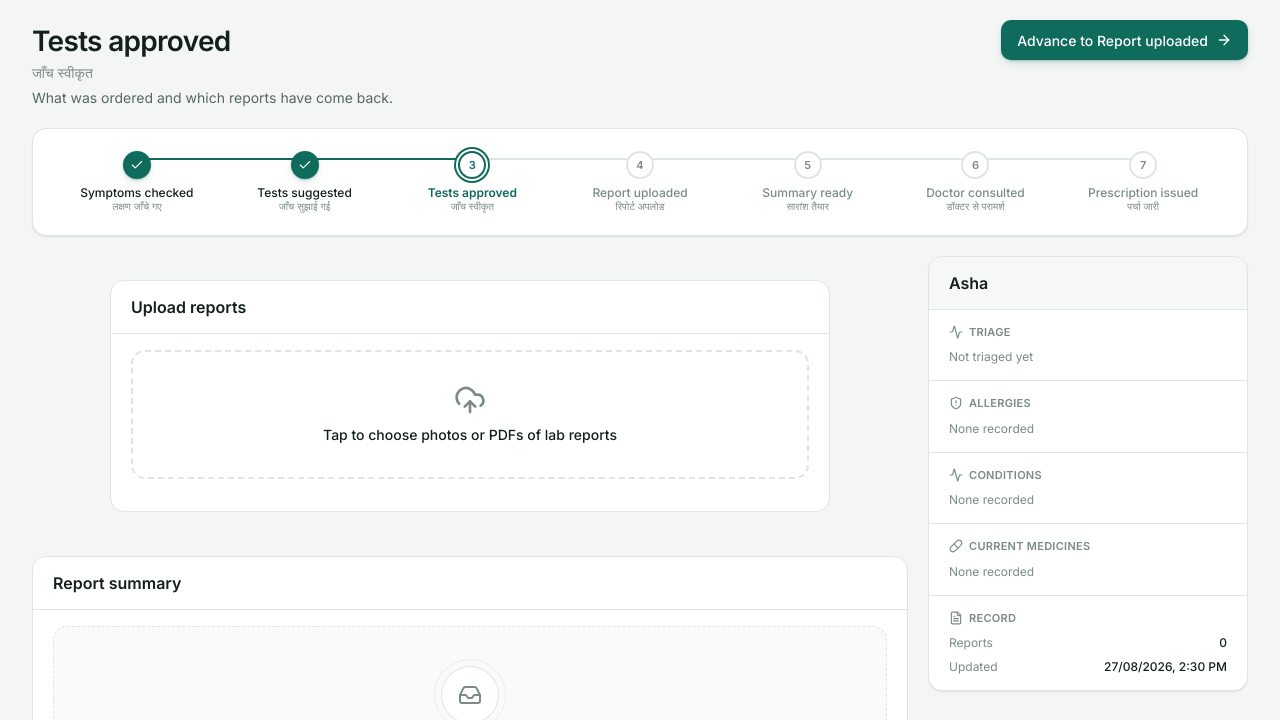
it: VisitContainer › says why an advance was refused instead of failing silently
This screenshot has width=1280, height=720.
Click the button with test id "advance-visit" at (1125, 40), box left=1001, top=20, right=1248, bottom=60
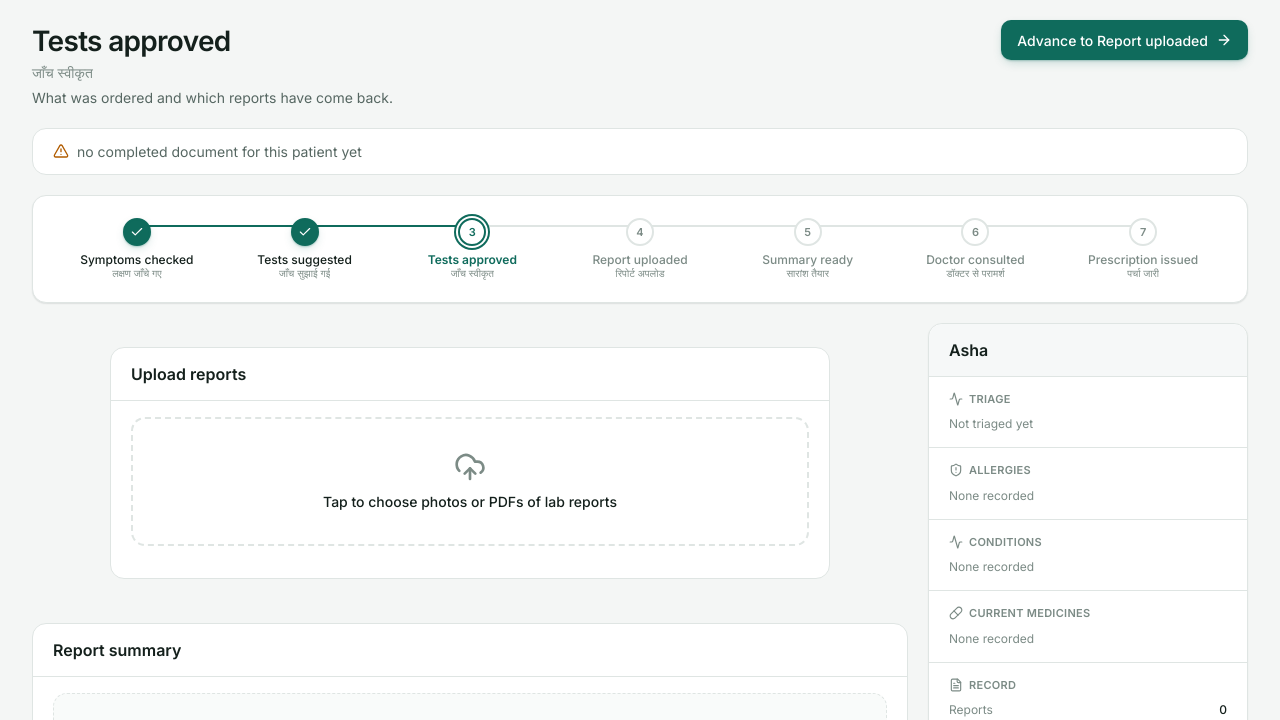
Expected: the text "no completed document for this patient yet" is shown, left=77, top=141, right=362, bottom=162
